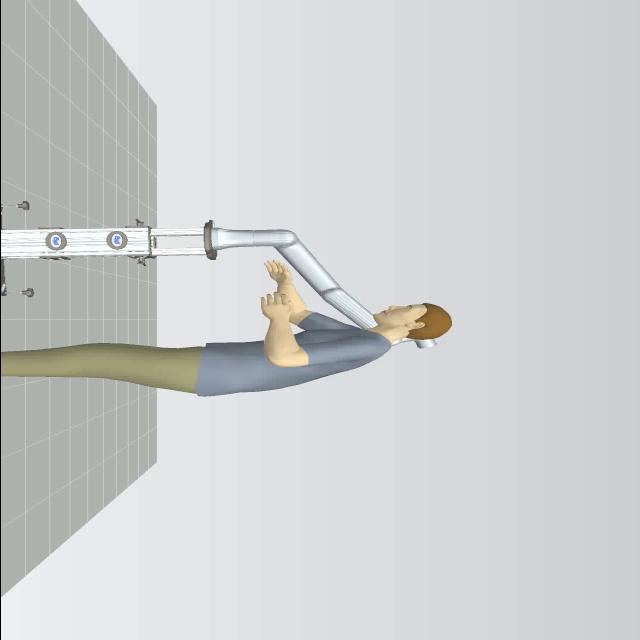human: (2, 259, 453, 397)
robot: (202, 200, 451, 352)
